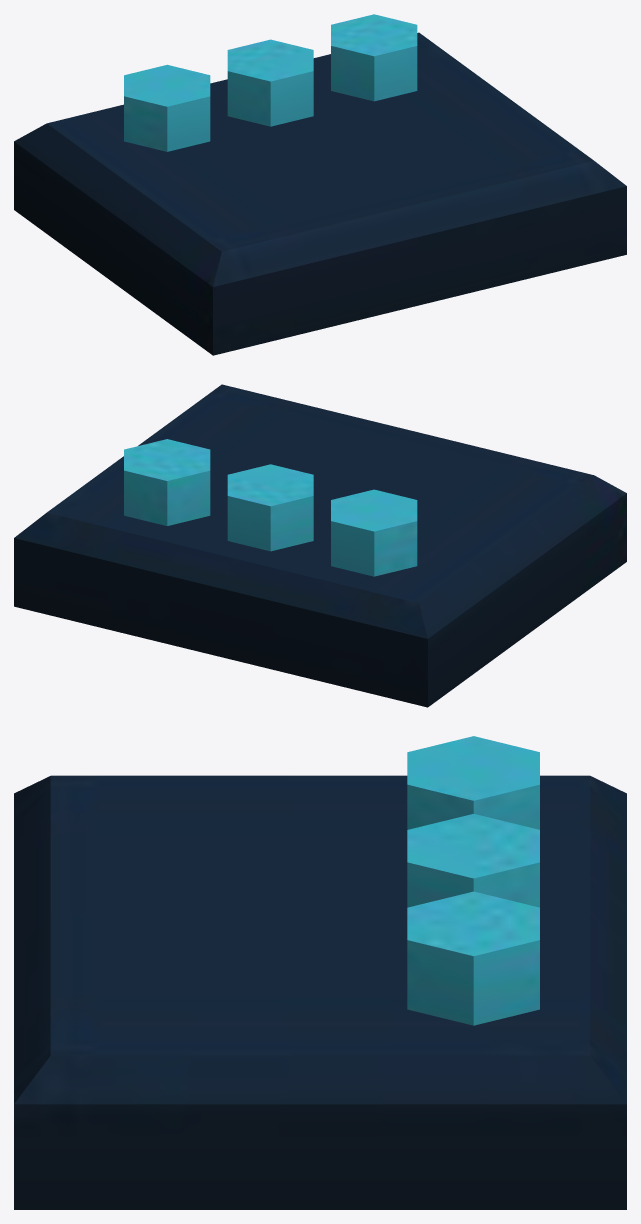
The model's file is speed-module-3.glb.
The picture shows the model from 3 angles, top to bottom: view 1: azimuth 30°, elevation 25°; view 2: azimuth 150°, elevation 25°; view 3: azimuth 270°, elevation 25°; orthographic projection. The views are drawn at different scales.
Visible parts, largest first — view 1: speed-module-3; view 2: speed-module-3; view 3: speed-module-3.
Boxes of the visible parts, left/top/right/bottom form: speed-module-3: left=14, top=14, right=626, bottom=355; speed-module-3: left=14, top=384, right=626, bottom=707; speed-module-3: left=14, top=736, right=626, bottom=1209.
Bounding box in the file's own units: 0.24 × 0.075 × 0.2.
1 material, 1 textured.
